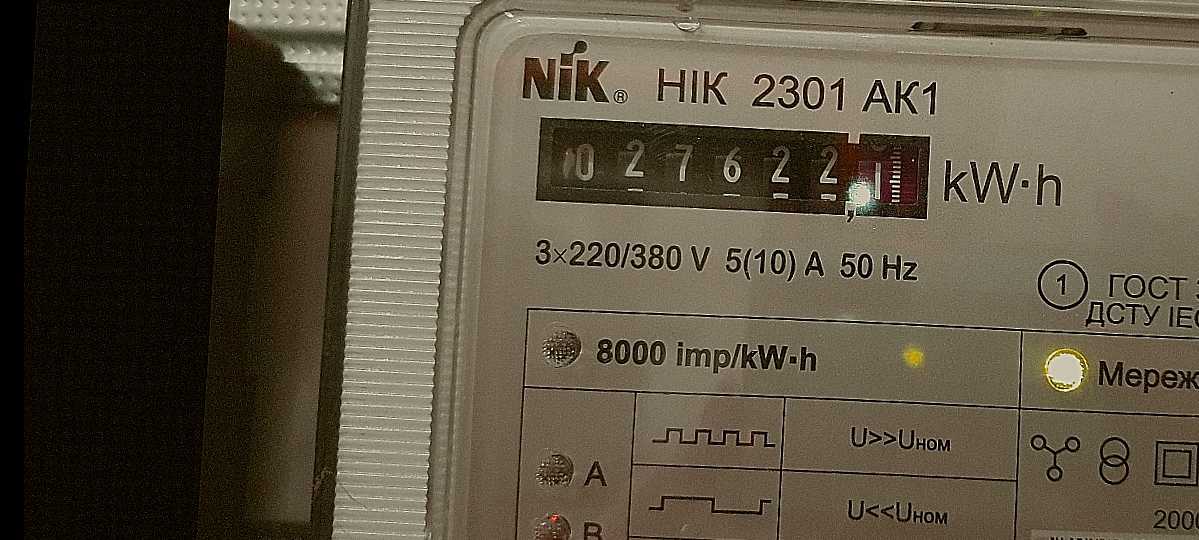0: (572, 138, 599, 182)
1: (869, 157, 888, 201)
2: (768, 142, 795, 185), (623, 136, 649, 180), (818, 142, 843, 185)
6: (721, 142, 745, 184)
7: (671, 140, 697, 185)
screen: (523, 101, 947, 231)
